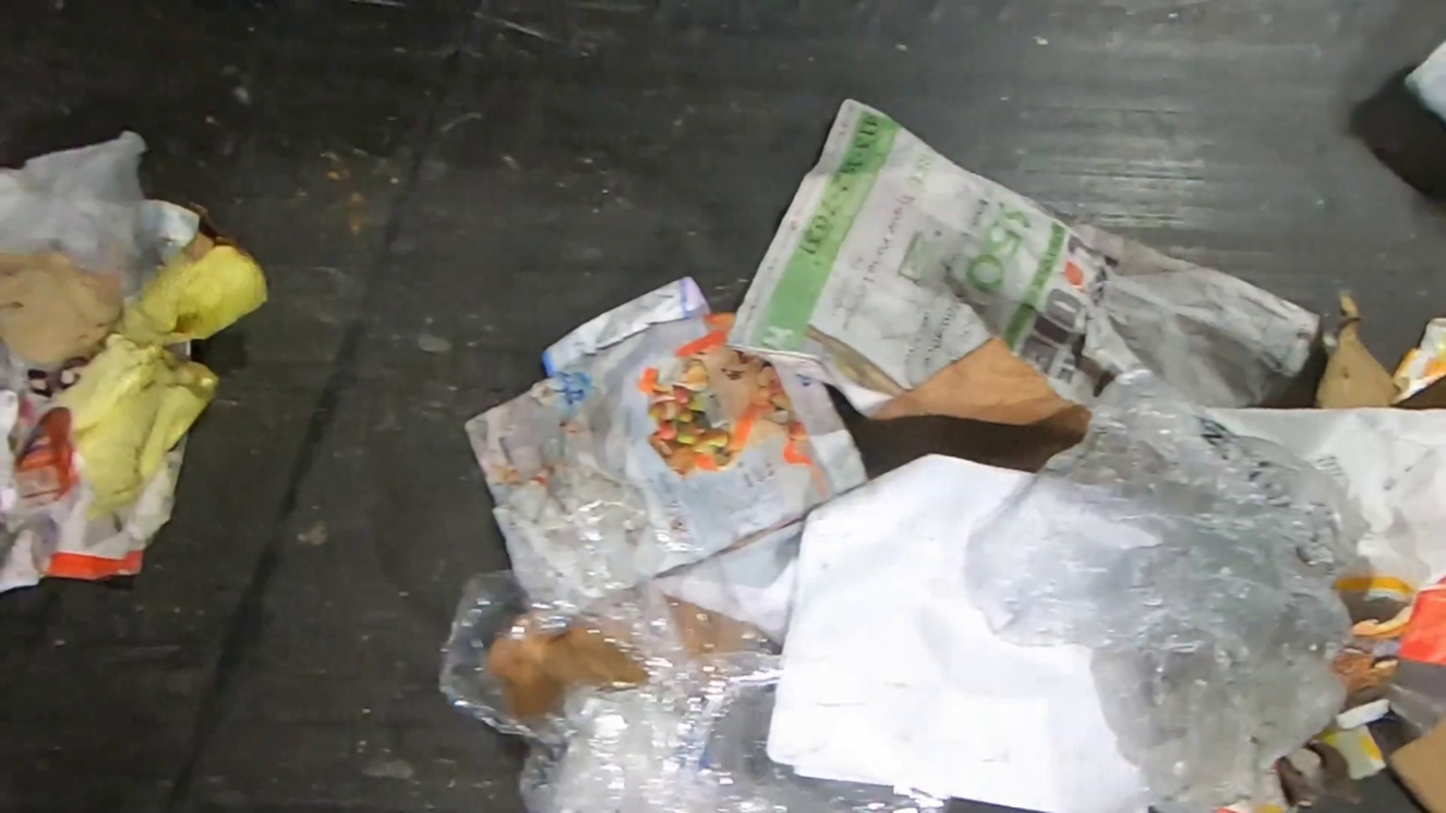cardboard: (851, 334, 1086, 480), (1306, 287, 1402, 413), (1391, 724, 1444, 812)
plastic: (964, 365, 1351, 813), (438, 503, 954, 812)
